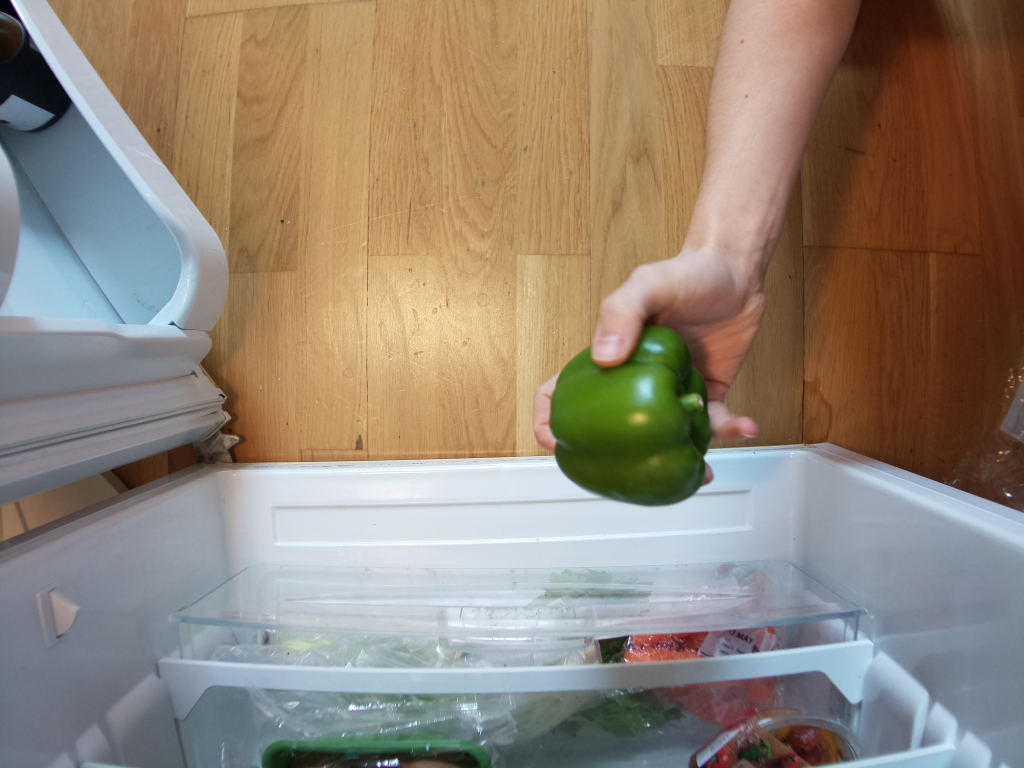pepper: (551, 324, 711, 507)
